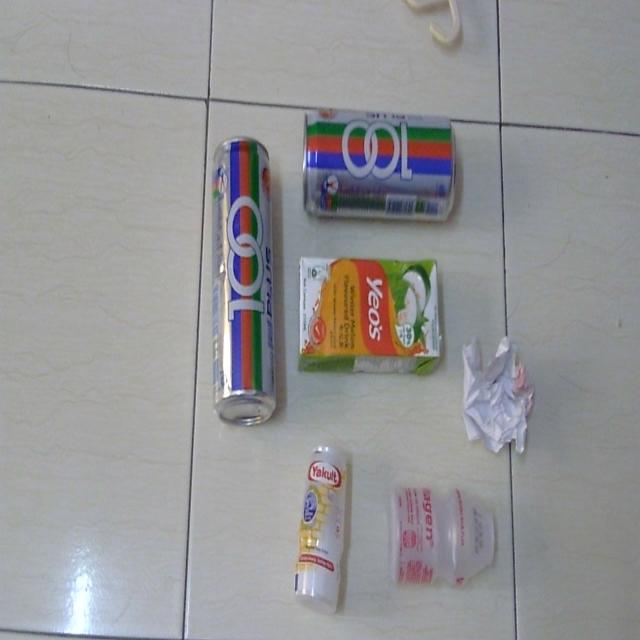metal_laydown_0rotation: (295, 102, 463, 228)
metal_laydown_90rotation: (208, 132, 282, 432)
paperrotation: (456, 329, 539, 466)
plastic_laydown_0rotation: (294, 252, 445, 374), (386, 477, 500, 605)
plastic_laydown_90rotation: (294, 434, 351, 618)
